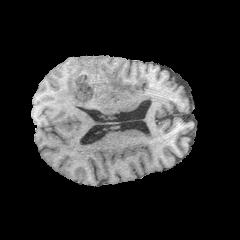glioma: (57, 57, 144, 109)
